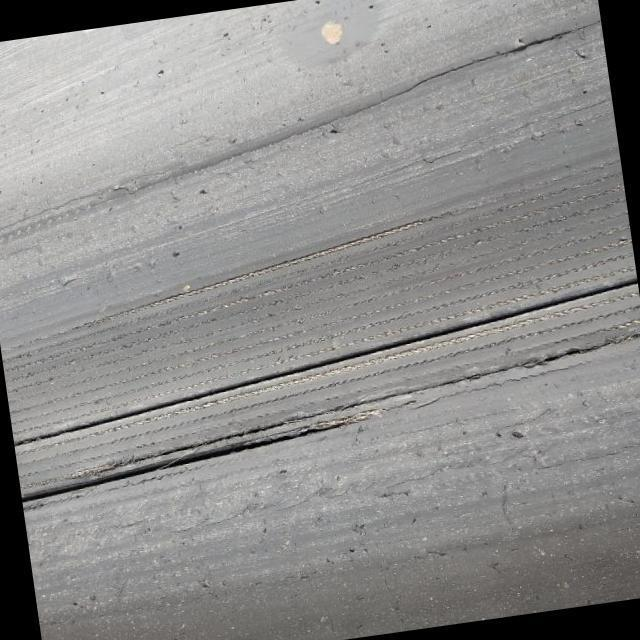Tear: (9, 269, 640, 456), (18, 404, 356, 506), (328, 8, 603, 126), (436, 326, 634, 393)
Wear: (6, 147, 624, 443)
